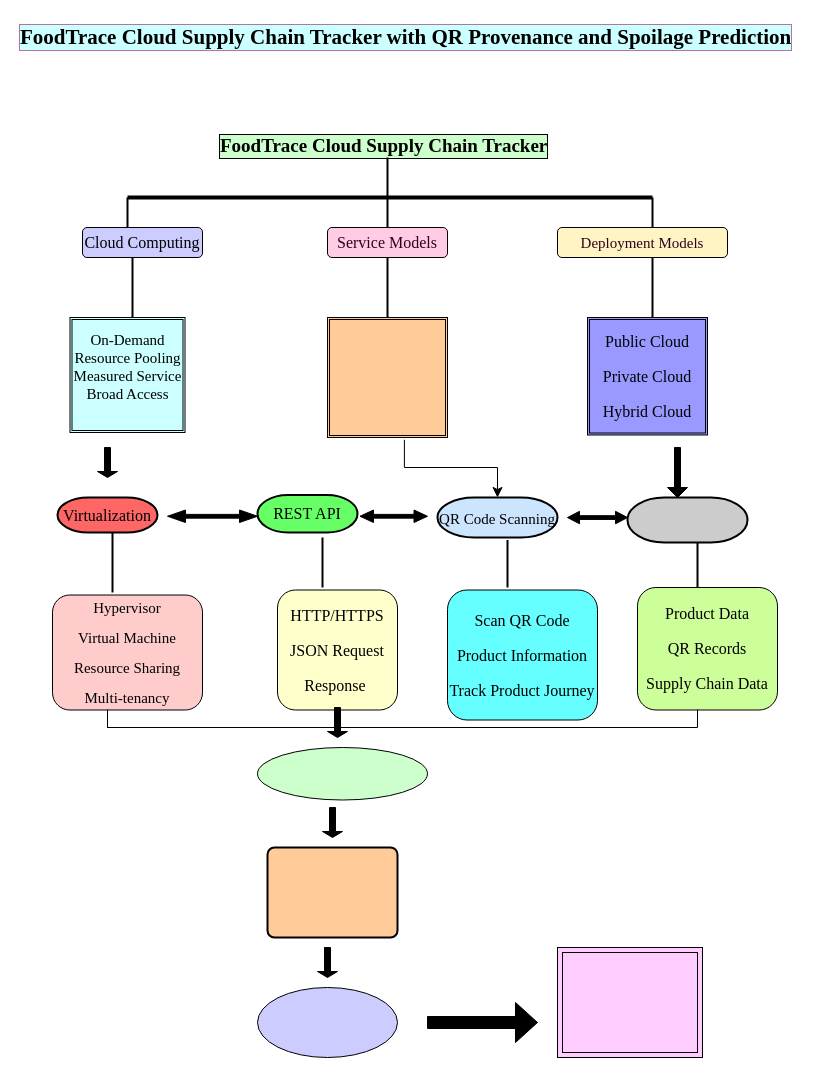
The diagram is 834 pixels wide and 1080 high, and some of its shapes have lost their labels. Each missing label, with the centre of its shape:
"Cloud Database" goes at point (687, 519).
"IaaS PaaS SaaS XaaS" goes at point (387, 377).
"ML Prediction Shelf Life Alert Generation" goes at point (332, 892).
"Real-time Reports Notifications Analytics" goes at point (629, 1002).
"Reports & Dashboard" goes at point (327, 1022).
"Spoilage Prediction" goes at point (342, 773).
